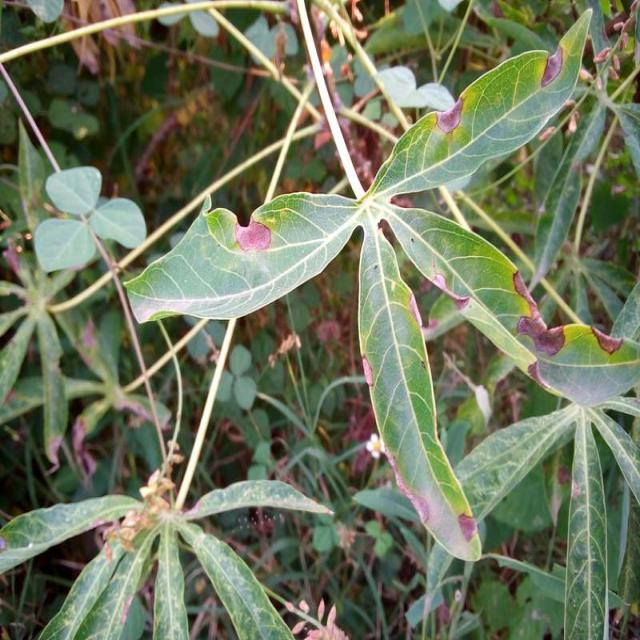cassava leaf: (120, 6, 594, 564), (356, 210, 483, 562), (121, 189, 362, 324)
